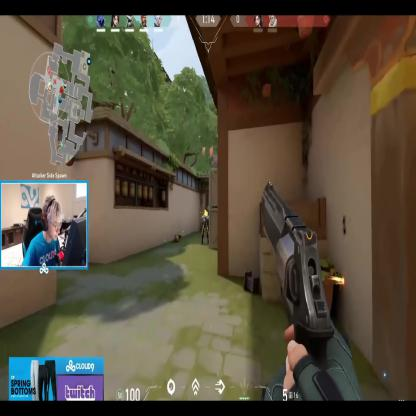enemy: (202, 208, 209, 245)
enemy_head: (204, 210, 206, 215)
